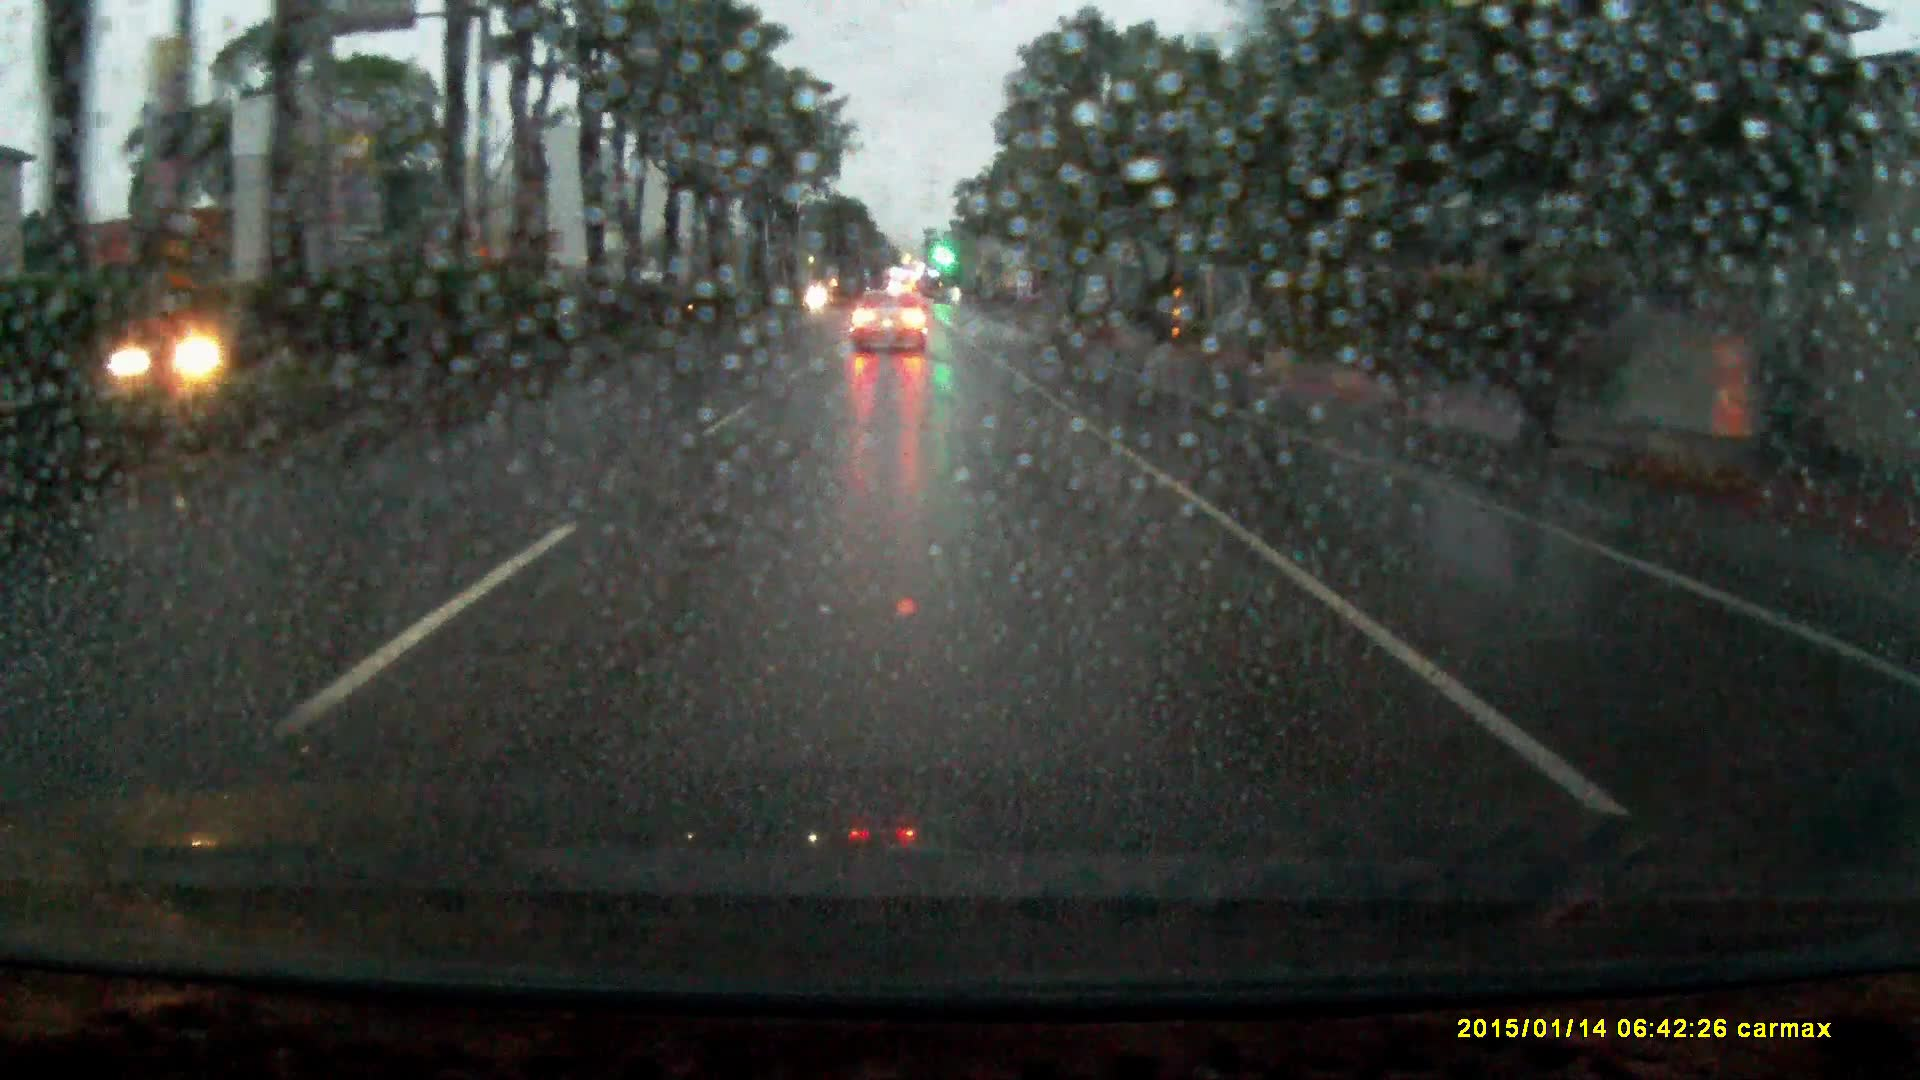vehicle: (102, 316, 248, 398), (848, 287, 931, 357)
